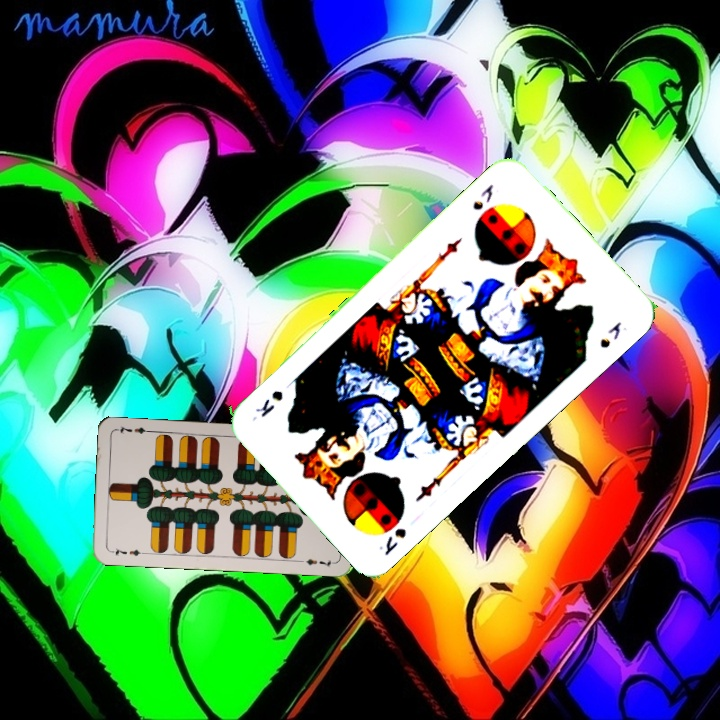E7: (107, 544, 147, 559)
SK: (375, 523, 409, 559), (468, 180, 496, 213)
